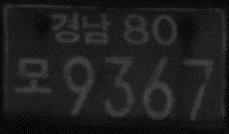0: (151, 14, 178, 47)
3: (102, 53, 136, 119)
6: (141, 55, 175, 120)
7: (178, 55, 215, 122)
8: (121, 13, 150, 46)
9: (62, 53, 96, 117)
경남_O: (48, 11, 110, 44)
모: (13, 55, 52, 97)
